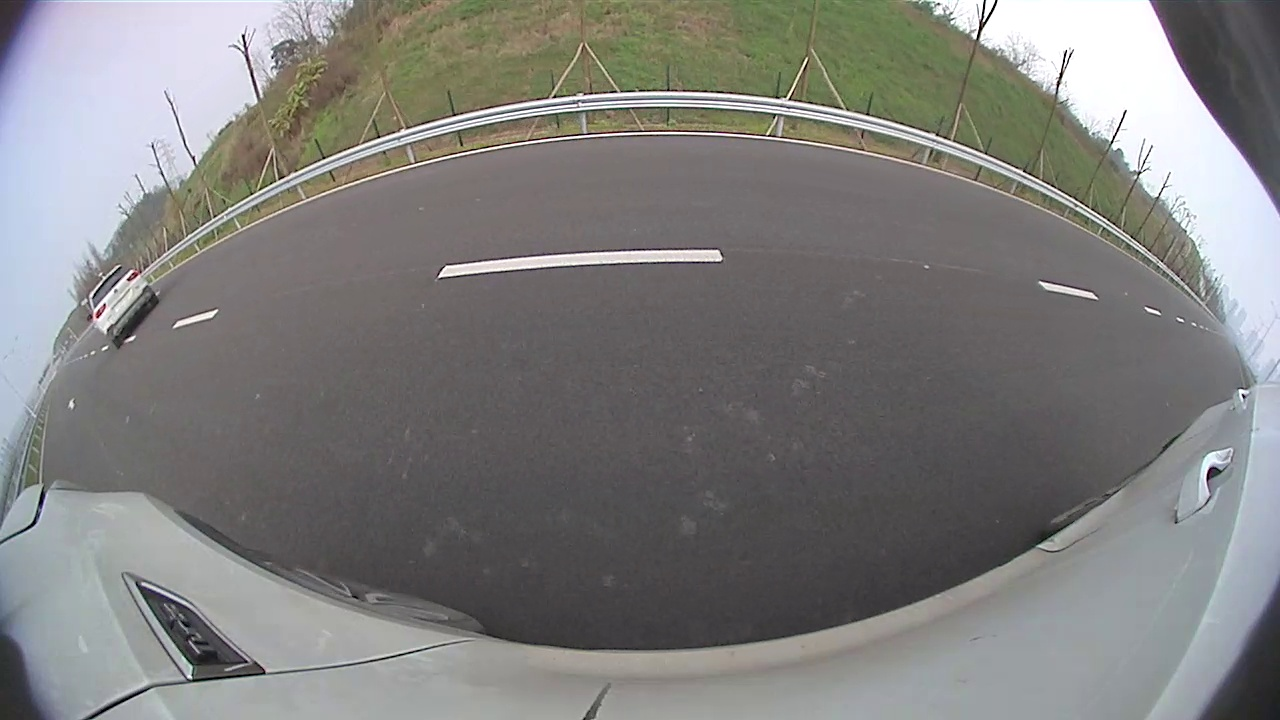car: (87, 263, 160, 350)
